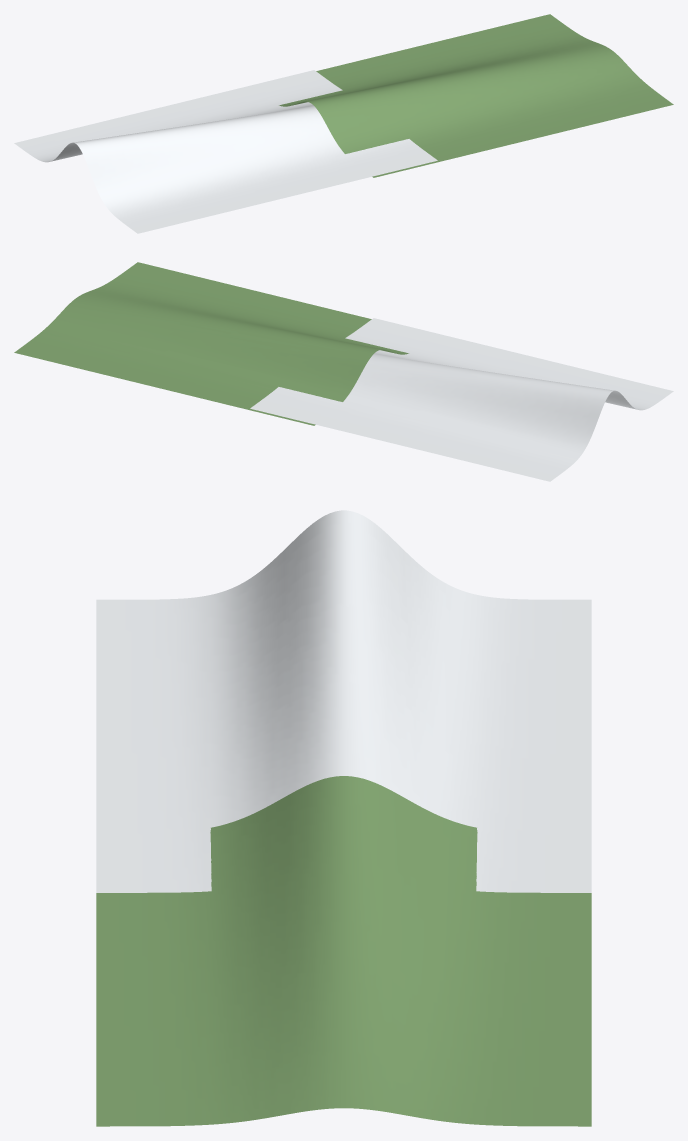
File: river-hydrology.glb
3 renders of one model, top to bottom at view 1: azimuth 30°, elevation 25°; view 2: azimuth 150°, elevation 25°; view 3: azimuth 270°, elevation 25°, orthographic. The views are drawn at different scales.
Visible parts, largest first — view 1: Hydro_Pluvial, Hydro_Nival; view 2: Hydro_Pluvial, Hydro_Nival; view 3: Hydro_Pluvial, Hydro_Nival.
Part boxes in pixels (x1,y1,x2,y2): Hydro_Pluvial: (279,14,673,177); Hydro_Nival: (14,70,437,233); Hydro_Pluvial: (14,262,408,425); Hydro_Nival: (250,318,673,481); Hydro_Pluvial: (96,776,591,1126); Hydro_Nival: (96,510,591,892).
Bounding box in the file's own units: 10 × 0.8263 × 4.
